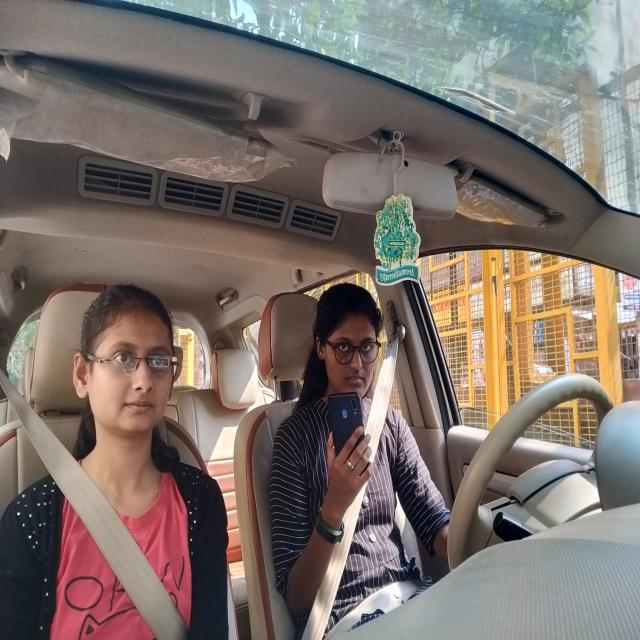mobile: (322, 383, 375, 472)
person: (72, 285, 185, 438), (311, 278, 383, 399)
